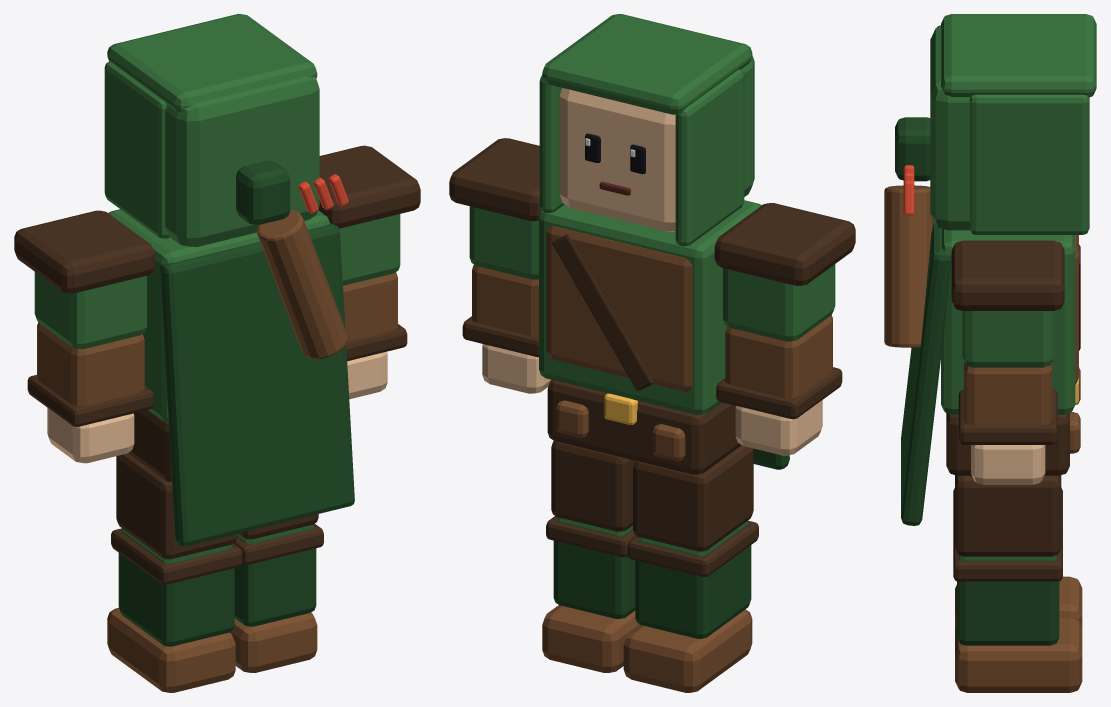
File: Ranger.glb
3 renders of one model, left to right at view 1: azimuth 30°, elevation 25°; view 2: azimuth 150°, elevation 25°; view 3: azimuth 270°, elevation 25°, orthographic.
Visible parts, largest first — view 1: UpperTorso, Head, LeftUpperArm, LeftLowerLeg, RightUpperArm, LeftLowerArm, RightLowerLeg, LeftFoot, LeftUpperLeg, RightLowerArm, RightFoot, LeftHand (+3 smaller); view 2: Head, UpperTorso, LeftUpperArm, LowerTorso, LeftLowerLeg, RightUpperArm, LeftUpperLeg, LeftLowerArm, RightLowerLeg, LeftFoot, RightUpperLeg, RightLowerArm (+3 smaller); view 3: Head, UpperTorso, RightUpperArm, RightLowerLeg, RightUpperLeg, RightLowerArm, RightFoot, RightHand, LowerTorso, LeftFoot.
Part boxes in pixels (x1,y1,x2,y2): UpperTorso: [108, 174, 354, 546]; Head: [104, 14, 319, 246]; LeftUpperArm: [14, 210, 155, 349]; LeftLowerLeg: [111, 528, 242, 646]; RightUpperArm: [318, 145, 420, 285]; LeftLowerArm: [27, 322, 153, 426]; RightLowerLeg: [233, 523, 323, 626]; LeftFoot: [107, 608, 235, 692]; LeftUpperLeg: [116, 453, 236, 559]; RightLowerArm: [343, 272, 407, 360]; RightFoot: [230, 612, 317, 672]; LeftHand: [47, 408, 134, 463]; Head: [539, 14, 754, 246]; UpperTorso: [539, 200, 789, 469]; LeftUpperArm: [714, 203, 855, 341]; LowerTorso: [547, 379, 741, 474]; LeftLowerLeg: [627, 520, 758, 638]; RightUpperArm: [449, 138, 541, 279]; LeftUpperLeg: [633, 445, 753, 551]; LeftLowerArm: [716, 315, 842, 419]; RightLowerLeg: [546, 516, 636, 618]; LeftFoot: [623, 609, 752, 692]; RightUpperLeg: [551, 441, 634, 531]; RightLowerArm: [462, 264, 538, 357]; Head: [895, 14, 1096, 234]; UpperTorso: [884, 165, 1080, 525]; RightUpperArm: [951, 240, 1064, 367]; RightLowerLeg: [953, 528, 1062, 645]; RightUpperLeg: [955, 475, 1061, 556]; RightLowerArm: [958, 362, 1057, 444]; RightFoot: [955, 617, 1082, 692]; RightHand: [971, 445, 1045, 484]; LowerTorso: [946, 367, 1080, 475]; LeftFoot: [955, 576, 1082, 628].
Size of the model in its own units: 1.19 by 1.91 by 0.6.
Materials: 2 (1 with a texture image).
